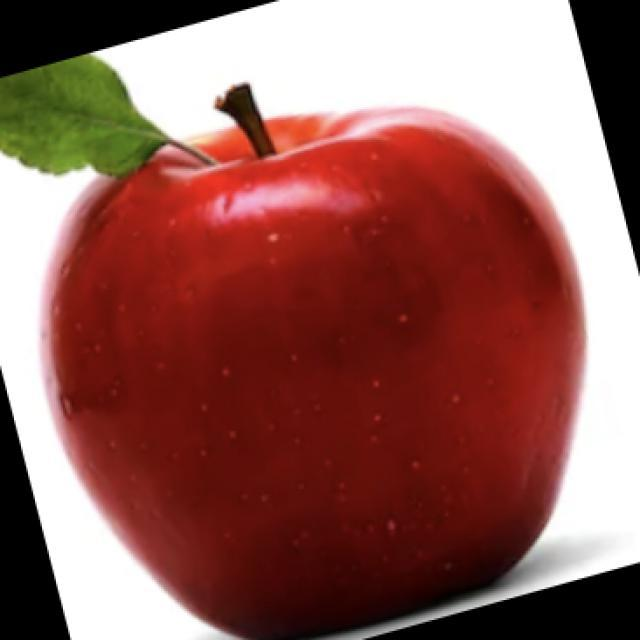Fresh Apple: (60, 102, 598, 633)
